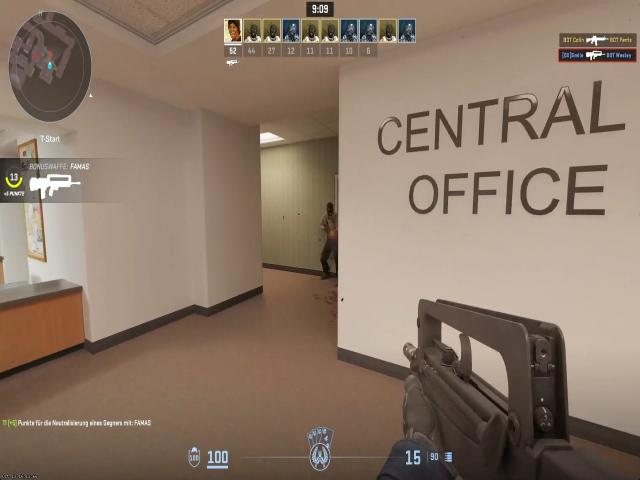T: (318, 198, 338, 276)
T-Head: (323, 201, 337, 222)
